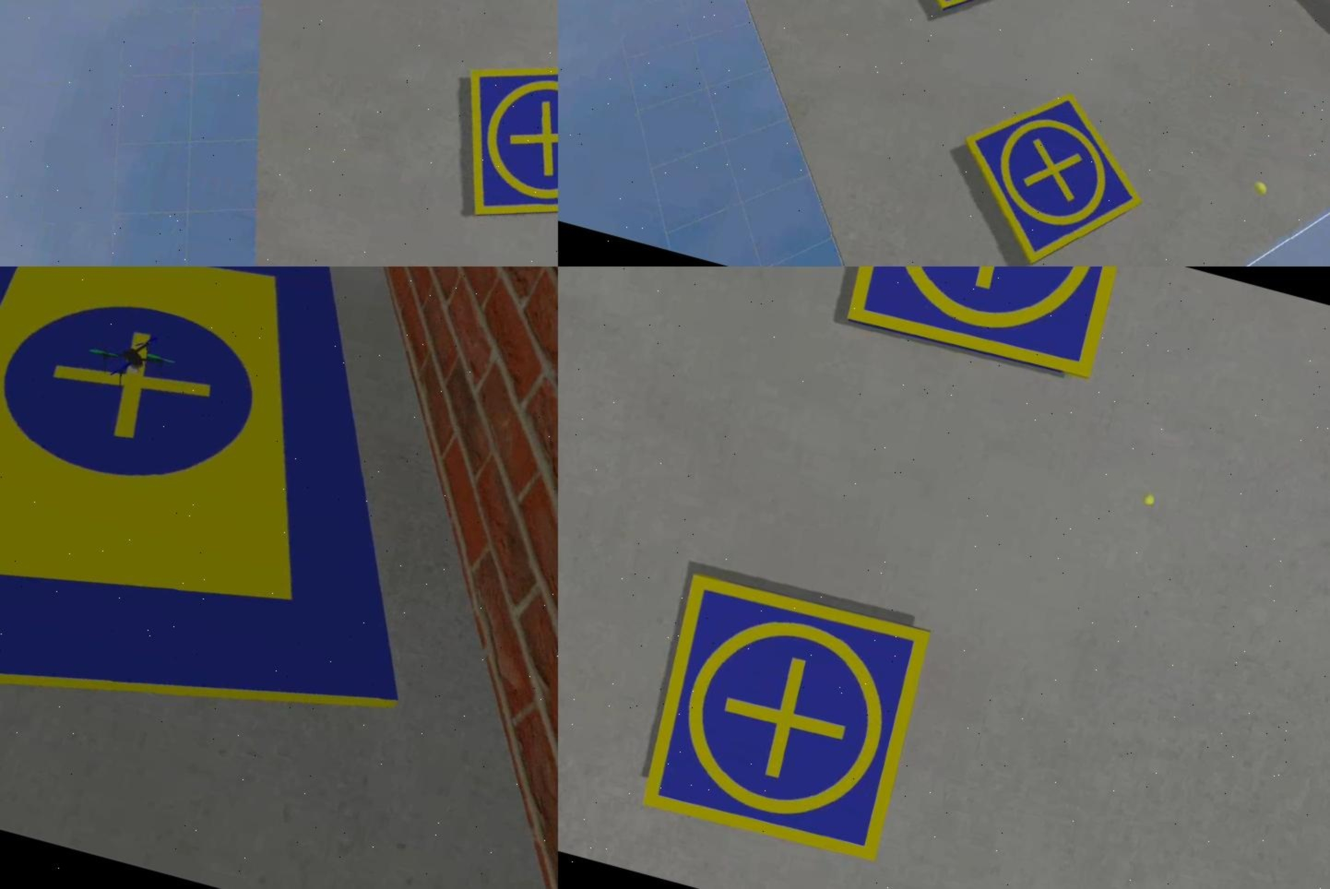large_base: (1, 267, 505, 830)
small_base: (632, 569, 938, 869), (935, 71, 1167, 267), (841, 267, 1126, 387), (435, 36, 558, 253), (883, 1, 1053, 33)
